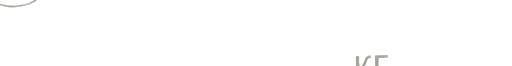letter: (224, 14, 254, 50), (398, 13, 426, 49), (30, 15, 60, 48), (368, 13, 396, 47), (337, 14, 365, 48), (112, 16, 140, 50), (310, 16, 338, 49), (427, 12, 453, 47), (454, 12, 480, 46), (256, 13, 282, 47), (59, 15, 85, 49), (142, 16, 170, 47), (3, 15, 29, 48), (86, 15, 112, 48), (285, 16, 309, 49), (173, 15, 193, 48), (202, 14, 222, 46)
